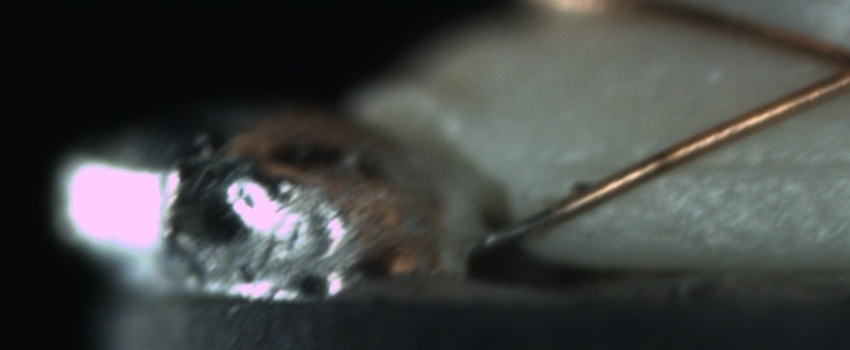DL: (636, 137, 850, 196)
TS: (474, 204, 557, 255)
